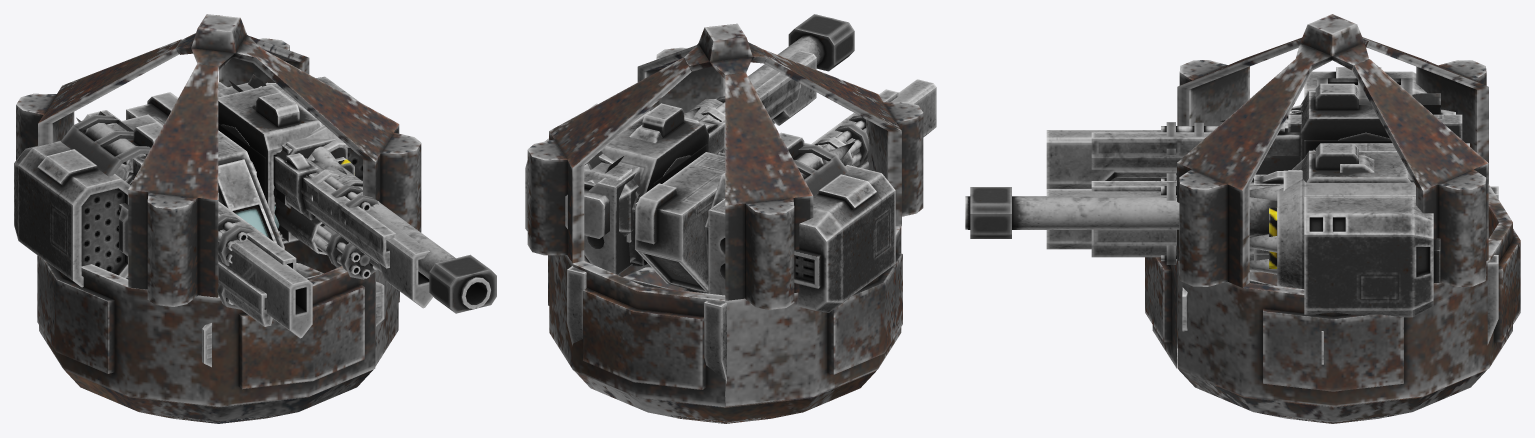
File: All Heavy Turrets RIGGED.FBX
3 renders of one model, left to right at view 1: azimuth 30°, elevation 25°; view 2: azimuth 150°, elevation 25°; view 3: azimuth 270°, elevation 25°, orthographic. The views are drawn at different scales.
Visible parts, largest first — view 1: break_6, break_4, mantlet_1 LRM, break_3, break_5, mantlet_2 LGAUSS, break_1, barrel_1 ARTILLERY, barrel_1 HGAUSS, mantlet_2 RAC, barrel_2 LGAUSS, turret ARTILLERY (+16 smaller); view 2: break_7, break_6, break_5, mantlet_1 LRM, break_2, break_4, break_1, mantlet_1 ARROW, turret ADA, mantlet_2 RAC, mantlet_1 ARTILLERY, barrel_1 ARTILLERY (+17 smaller); view 3: break_7, mantlet_1 LRM, break_3, break_2, barrel_1 ARTILLERY, break_5, break_4, break_1, mantlet_2 MRM, barrel_1 HGAUSS, barrel_1 LGAUSS, break_8 (+16 smaller).
Boxes of the visible parts, x1=… form: break_6: x1=37, y1=255, x2=375, y2=406; break_4: x1=128, y1=64, x2=218, y2=306; mantlet_1 LRM: x1=14, y1=76, x2=360, y2=287; break_3: x1=253, y1=49, x2=421, y2=232; break_5: x1=16, y1=39, x2=181, y2=160; mantlet_2 LGAUSS: x1=218, y1=98, x2=321, y2=243; break_1: x1=63, y1=263, x2=373, y2=423; barrel_1 ARTILLERY: x1=356, y1=186, x2=496, y2=313; barrel_1 HGAUSS: x1=218, y1=230, x2=312, y2=338; mantlet_2 RAC: x1=218, y1=84, x2=339, y2=254; barrel_2 LGAUSS: x1=302, y1=175, x2=395, y2=268; turret ARTILLERY: x1=60, y1=115, x2=150, y2=184; break_7: x1=548, y1=255, x2=725, y2=407; break_6: x1=725, y1=226, x2=902, y2=406; break_5: x1=725, y1=73, x2=813, y2=309; mantlet_1 LRM: x1=525, y1=103, x2=895, y2=312; break_2: x1=527, y1=57, x2=691, y2=263; break_4: x1=762, y1=49, x2=923, y2=226; break_1: x1=574, y1=267, x2=876, y2=423; mantlet_1 ARROW: x1=584, y1=172, x2=725, y2=295; turret ADA: x1=635, y1=152, x2=725, y2=290; mantlet_2 RAC: x1=602, y1=103, x2=725, y2=264; mantlet_1 ARTILLERY: x1=565, y1=99, x2=722, y2=238; barrel_1 ARTILLERY: x1=716, y1=14, x2=854, y2=99; break_7: x1=1178, y1=185, x2=1520, y2=406; mantlet_1 LRM: x1=1304, y1=67, x2=1440, y2=317; break_3: x1=1177, y1=59, x2=1312, y2=287; break_2: x1=1352, y1=59, x2=1488, y2=286; barrel_1 ARTILLERY: x1=965, y1=187, x2=1179, y2=238; break_5: x1=1362, y1=37, x2=1488, y2=183; break_4: x1=1177, y1=37, x2=1302, y2=125; break_1: x1=1178, y1=270, x2=1487, y2=423; mantlet_2 MRM: x1=1277, y1=179, x2=1415, y2=288; barrel_1 HGAUSS: x1=1046, y1=130, x2=1176, y2=189; barrel_1 LGAUSS: x1=1091, y1=132, x2=1211, y2=169; break_8: x1=1295, y1=14, x2=1368, y2=70.
Bounding box in the file's own units: 17.18 × 25.51 × 18.85.
Materials: 1 (1 with a texture image).
